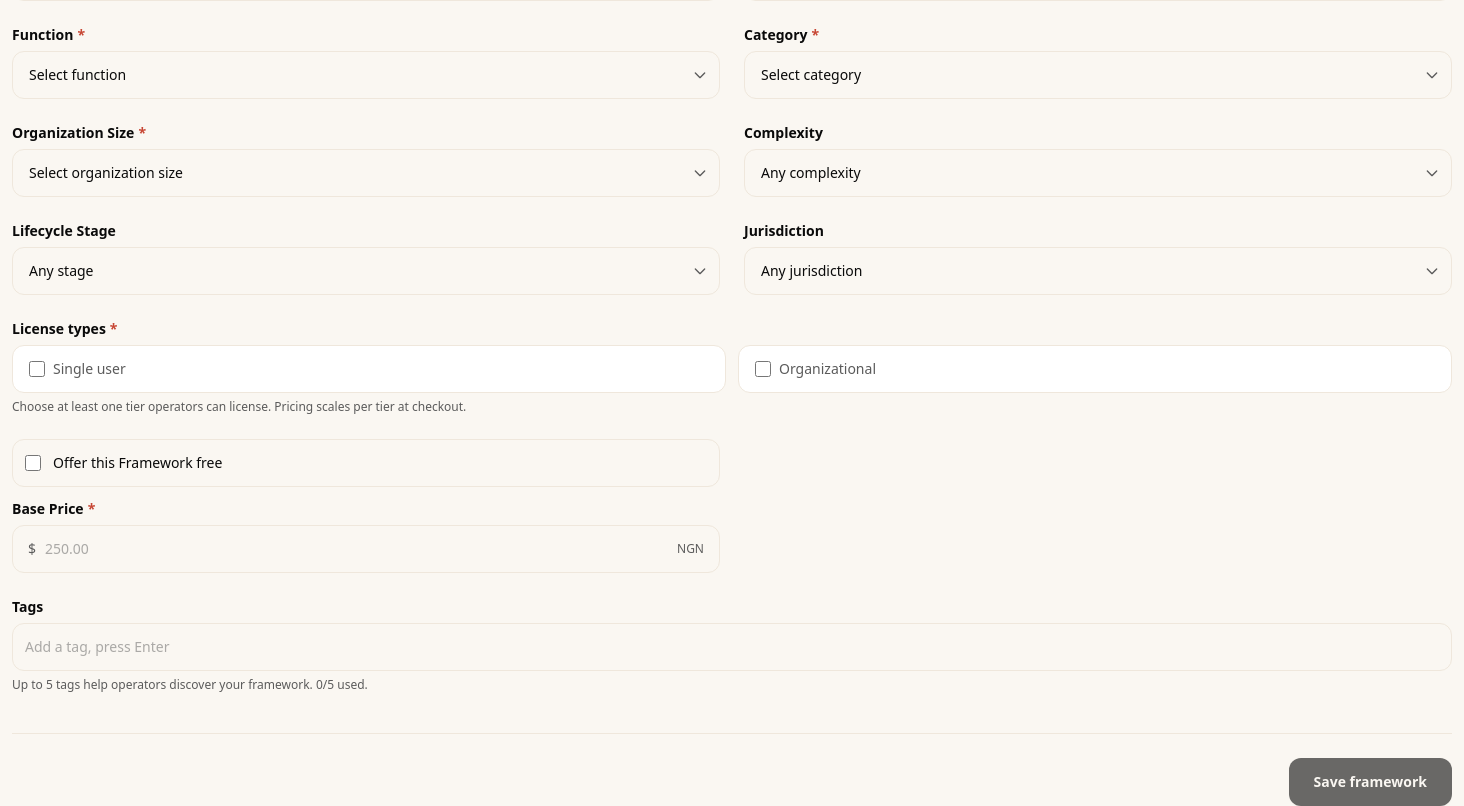
FrameworkForm free listings › removes the amount field while the Framework is free
(page scrolled)
Expected: the field labelled "Base Price* $ NGN" is shown, [12,525,720,573]
Click the checkbox labelled "Offer this Framework free": (33, 463) [25,455,41,471]
(page scrolled)
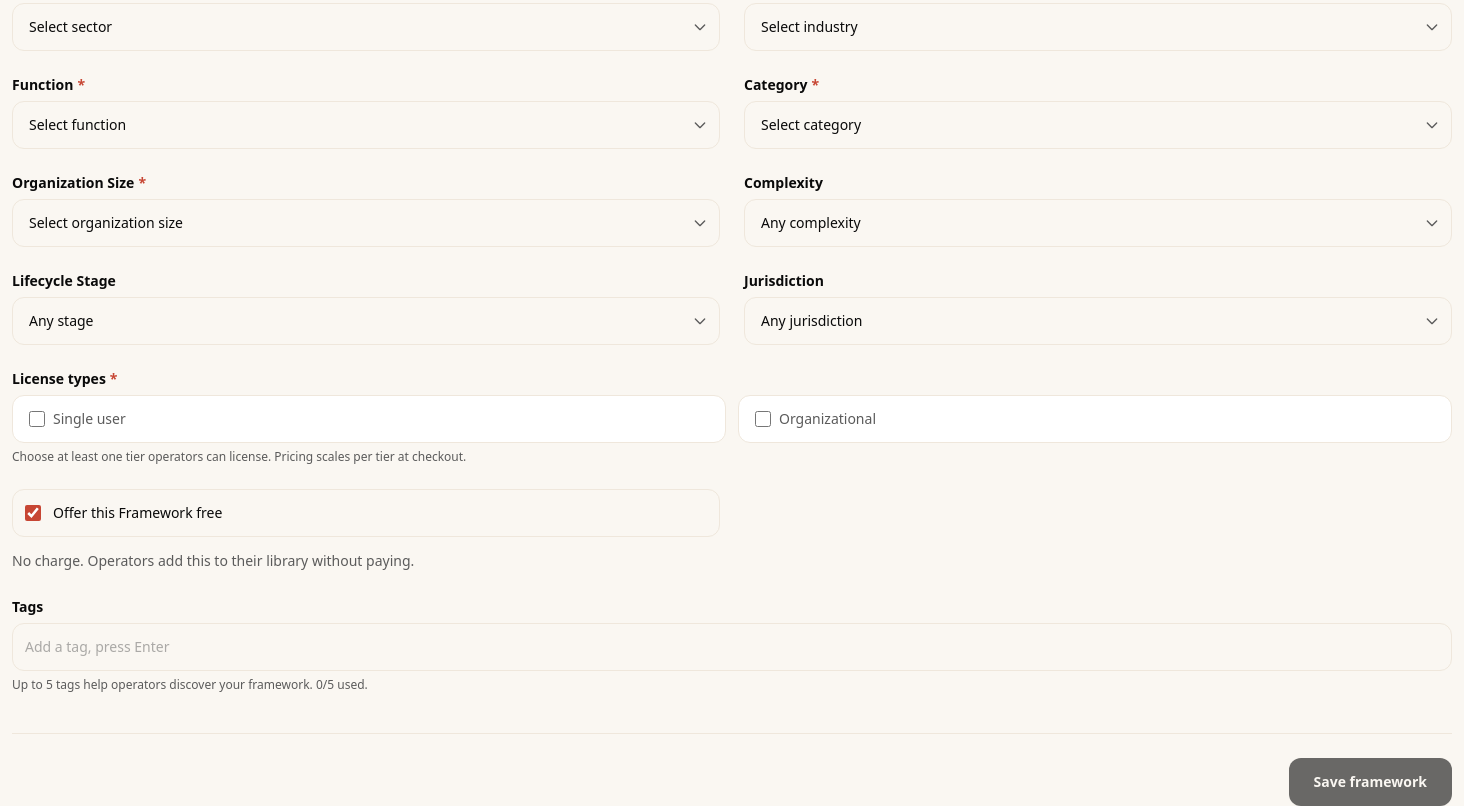
Now the field labelled "Base Price" is gone
